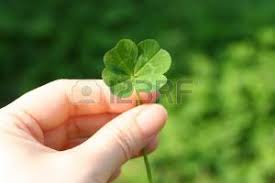4-clover: (101, 37, 172, 99)
